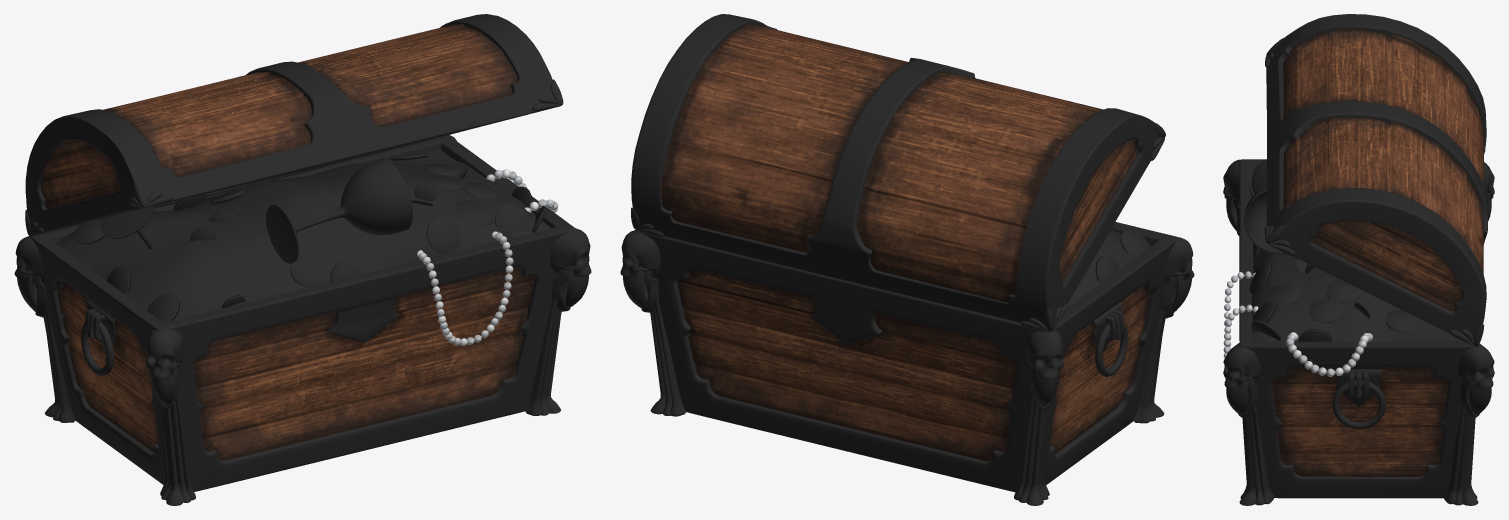
The model's file is chest.obj.
The picture shows the model from 3 angles, left to right: view 1: azimuth 30°, elevation 25°; view 2: azimuth 150°, elevation 25°; view 3: azimuth 270°, elevation 25°; orthographic projection. The views are drawn at different scales.
Visible parts, largest first — view 1: obj1; view 2: obj1; view 3: obj1.
Part boxes in pixels (bbox=[...]): obj1: bbox=[14, 14, 591, 505]; obj1: bbox=[620, 14, 1194, 505]; obj1: bbox=[1223, 14, 1494, 505].
Bounding box in the file's own units: 5.47 × 4.02 × 3.17.
Materials: 1 (1 with a texture image).
